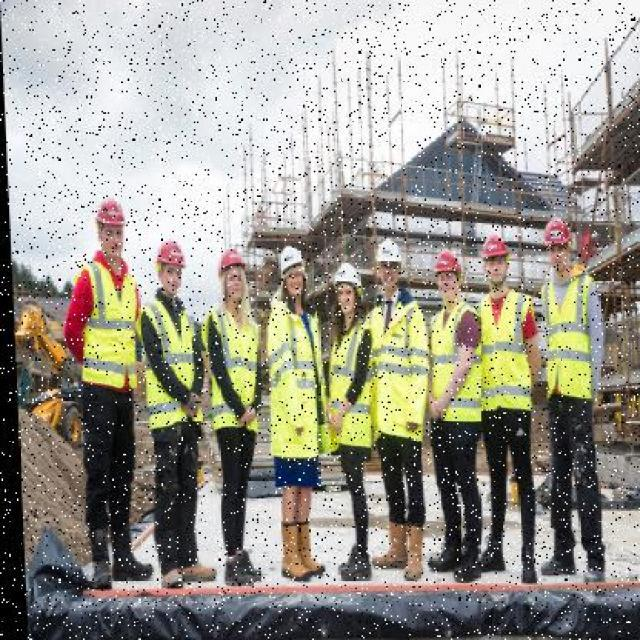helmet: (474, 220, 514, 269), (91, 195, 131, 237), (532, 220, 574, 257), (271, 242, 303, 282), (151, 237, 183, 274), (423, 248, 461, 279), (368, 239, 402, 273), (214, 249, 243, 285), (328, 265, 357, 296)
vest: (260, 292, 324, 470), (360, 283, 428, 449), (529, 262, 601, 404), (76, 252, 143, 403), (137, 274, 201, 430), (469, 280, 535, 418), (422, 288, 482, 439), (199, 297, 261, 439), (322, 311, 376, 453)
